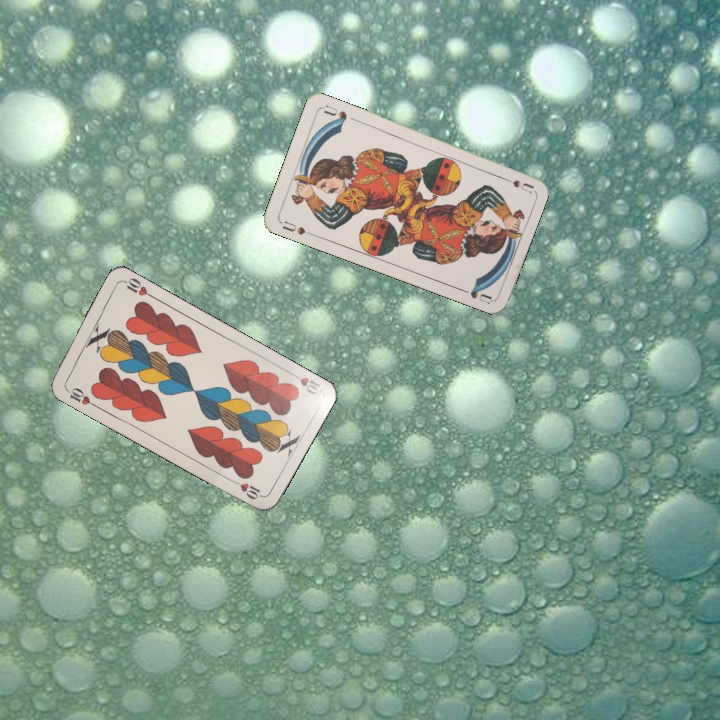H10: (286, 368, 323, 397), (61, 383, 98, 409)
SU: (495, 172, 535, 195), (278, 217, 316, 239)
